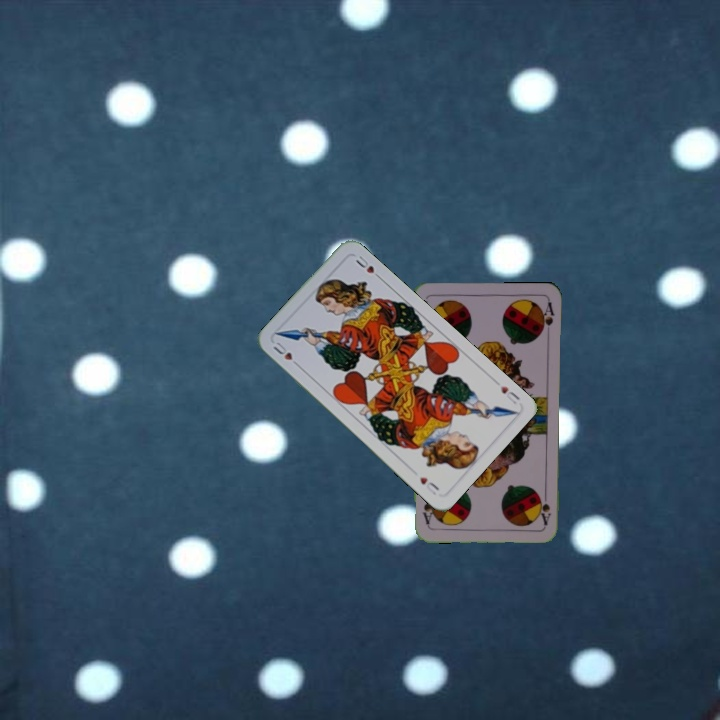HU: (269, 338, 303, 370), (496, 382, 522, 407)
SA: (538, 486, 553, 526)
